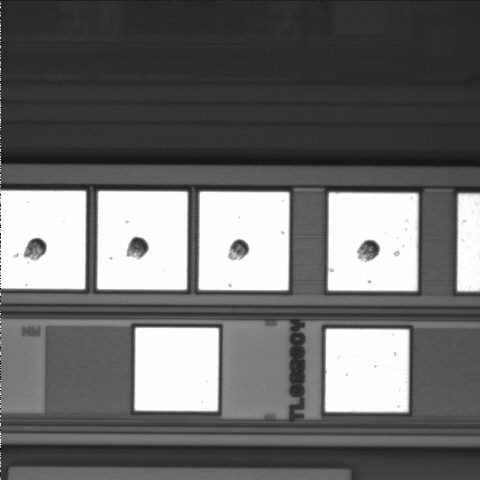pad: (97, 191, 187, 290), (199, 192, 289, 290), (328, 193, 418, 291), (135, 328, 219, 411), (325, 329, 409, 412)
